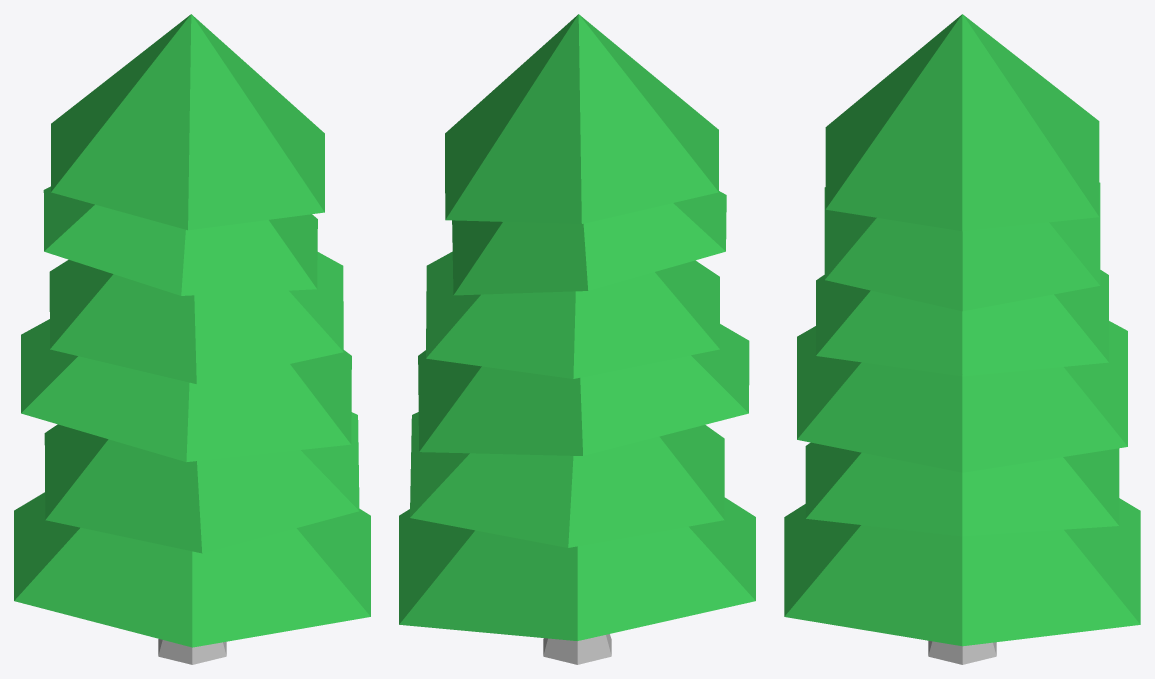
The model's file is fir_summer_3.fbx.
3 renders of one model, left to right at view 1: azimuth 30°, elevation 25°; view 2: azimuth 150°, elevation 25°; view 3: azimuth 270°, elevation 25°, orthographic.
Visible parts, largest first — view 1: fir.005; view 2: fir.005; view 3: fir.005.
Boxes of the visible parts, left/top/right/bottom form: fir.005: left=14, top=14, right=370, bottom=664; fir.005: left=399, top=14, right=755, bottom=664; fir.005: left=784, top=14, right=1140, bottom=664.
Bounding box in the file's own units: 997 × 1693 × 863.
